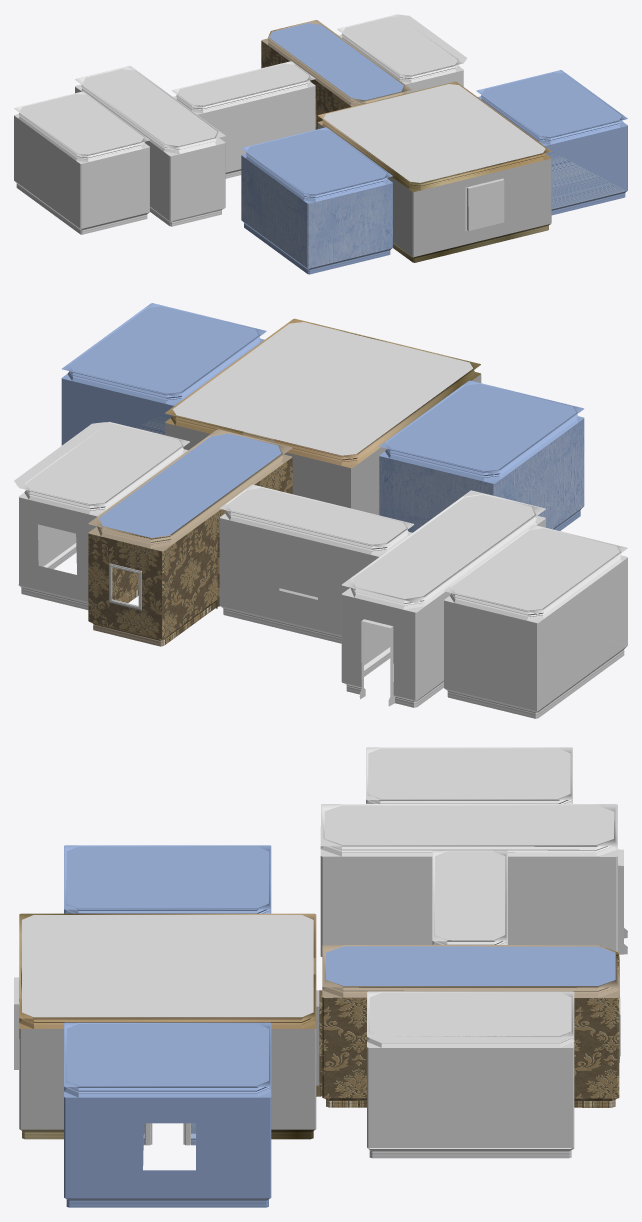
Rendered from sala2.fbx.
3 views of the same model, one above another, from view 1: azimuth 30°, elevation 25°; view 2: azimuth 150°, elevation 25°; view 3: azimuth 270°, elevation 25° (orthographic). The views are drawn at different scales.
Parts seen in each view (by area): view 1: Teto, Parede, Paredes.004, Paredes.005, RodaForro.009, RodaForro.008, Parede.001, Paredes.003, Paredes.002, RodaForro.013, RodaForro.010, RodaForro.014 (+20 smaller); view 2: Teto, Paredes.004, Paredes, Paredes.002, Parede, RodaForro.009, RodaForro.008, RodaForro.010, RodaForro.013, Paredes.003, RodaForro.014, RodaForro.011 (+19 smaller); view 3: Teto, Paredes.001, Paredes.003, Parede.001, RodaForro.008, RodaForro.009, RodaForro.013, RodaForro.010, RodaForro.014, RodaForro.011, Paredes, Paredes.005 (+13 smaller).
Boxes of the visible parts, box(x1,y1,x2,y2) form: Teto: box(323, 84, 545, 182); Parede: box(241, 155, 392, 268); Paredes.004: box(14, 115, 149, 228); Paredes.005: box(317, 123, 551, 257); RodaForro.009: box(482, 72, 621, 136); RodaForro.008: box(247, 129, 386, 194); Parede.001: box(545, 126, 627, 209); Paredes.003: box(75, 87, 225, 221); Paredes.002: box(197, 86, 315, 172); RodaForro.013: box(83, 69, 217, 146); RodaForro.010: box(269, 23, 403, 100); RodaForro.014: box(20, 94, 144, 154); Teto: box(172, 322, 473, 455); Paredes.004: box(444, 558, 627, 710); Paredes: box(88, 457, 292, 639); Paredes.002: box(219, 518, 378, 635); Parede: box(379, 418, 584, 532); RodaForro.009: box(69, 306, 258, 393); RodaForro.008: box(387, 384, 576, 471); RodaForro.010: box(99, 433, 281, 537); RodaForro.013: box(352, 494, 534, 598); Paredes.003: box(341, 519, 545, 700); RodaForro.014: box(452, 528, 619, 610); RodaForro.011: box(14, 422, 182, 504); Teto: box(22, 915, 313, 1017); Paredes.001: box(367, 1047, 574, 1148); Paredes.003: box(320, 856, 617, 956); Parede.001: box(64, 1097, 271, 1198); RodaForro.008: box(66, 846, 268, 908); RodaForro.009: box(66, 1023, 268, 1085); RodaForro.013: box(324, 805, 614, 844); RodaForro.010: box(326, 946, 615, 985); RodaForro.014: box(368, 748, 570, 798); RodaForro.011: box(369, 992, 571, 1042); Paredes: box(319, 958, 619, 1098); Paredes.005: box(19, 1028, 316, 1129).
Size of the model in its own units: 10151 by 1706 by 7751.
